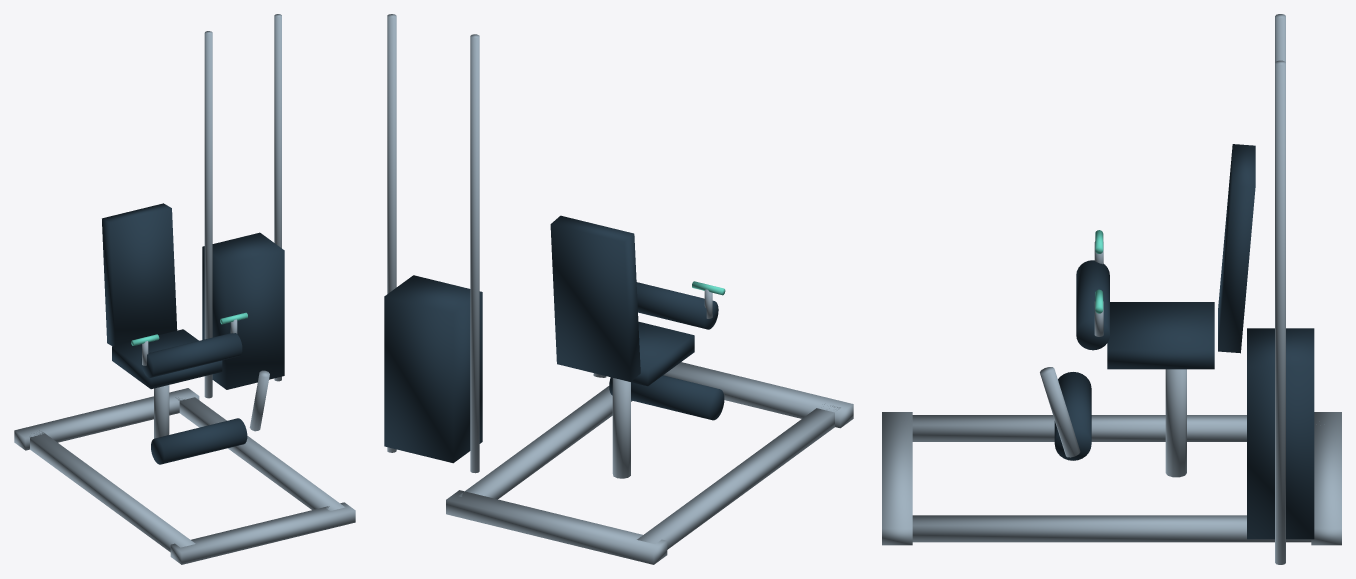
The model's file is machine_b_seated_leg_curl.glb.
The picture shows the model from 3 angles, left to right: view 1: azimuth 30°, elevation 25°; view 2: azimuth 150°, elevation 25°; view 3: azimuth 270°, elevation 25°; orthographic projection. The views are drawn at different scales.
Visible parts, largest first — view 1: base, weight_stack, back_pad, guide_-1, roller, thigh_restraint, seat, guide_1, seat_post, roller_link; view 2: base, weight_stack, back_pad, guide_-1, guide_1, roller, seat, thigh_restraint, seat_post; view 3: base, weight_stack, seat, guide_1, back_pad, thigh_restraint, seat_post, roller, roller_link.
Boxes of the visible parts, x1,y1,x2,y2 form: base: (14,388,355,564); weight_stack: (202,232,284,389); back_pad: (102,203,177,346); guide_-1: (204,31,212,398); roller: (151,418,247,464); thigh_restraint: (141,333,242,377); seat: (112,329,222,389); guide_1: (274,14,281,381); seat_post: (154,385,169,438); roller_link: (249,370,269,431); base: (446,362,853,564); weight_stack: (384,275,482,463); back_pad: (550,215,640,381); guide_-1: (470,34,479,473); guide_1: (387,14,396,452); roller: (609,375,724,420); seat: (631,321,694,386); thigh_restraint: (636,282,718,329); seat_post: (612,378,630,478); base: (882,412,1341,545); weight_stack: (1247,328,1314,539); seat: (1107,302,1214,369); guide_1: (1275,60,1285,564); back_pad: (1218,144,1255,353); thigh_restraint: (1076,260,1109,350); seat_post: (1165,369,1186,477); roller: (1054,372,1091,460); roller_link: (1040,367,1080,457).
Size of the model in its own units: 1.27 by 1.9 by 1.5.
